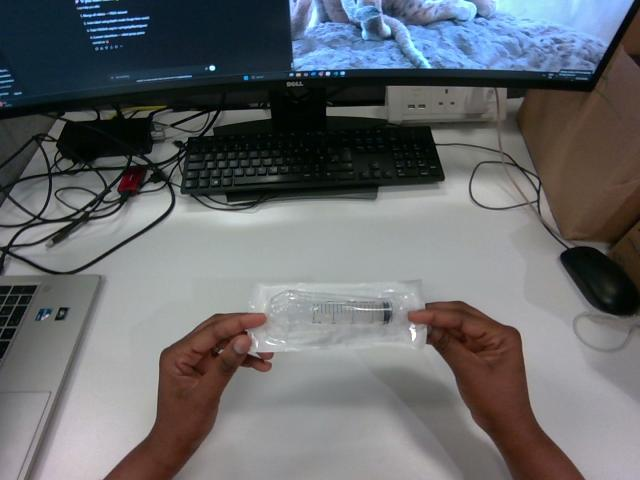syringe: (248, 281, 426, 351)
